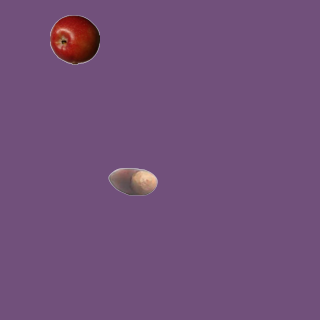Apple Braeburn: (49, 14, 99, 64)
Hazelnut: (107, 156, 157, 206)
